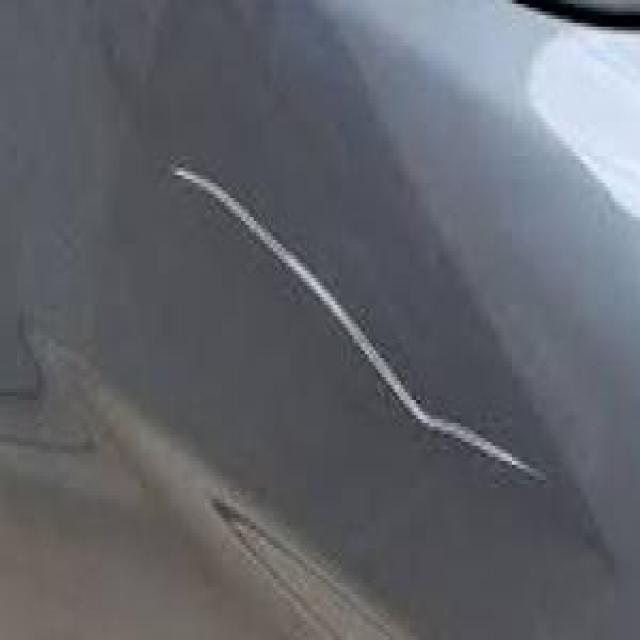scratch: (155, 158, 550, 497)
